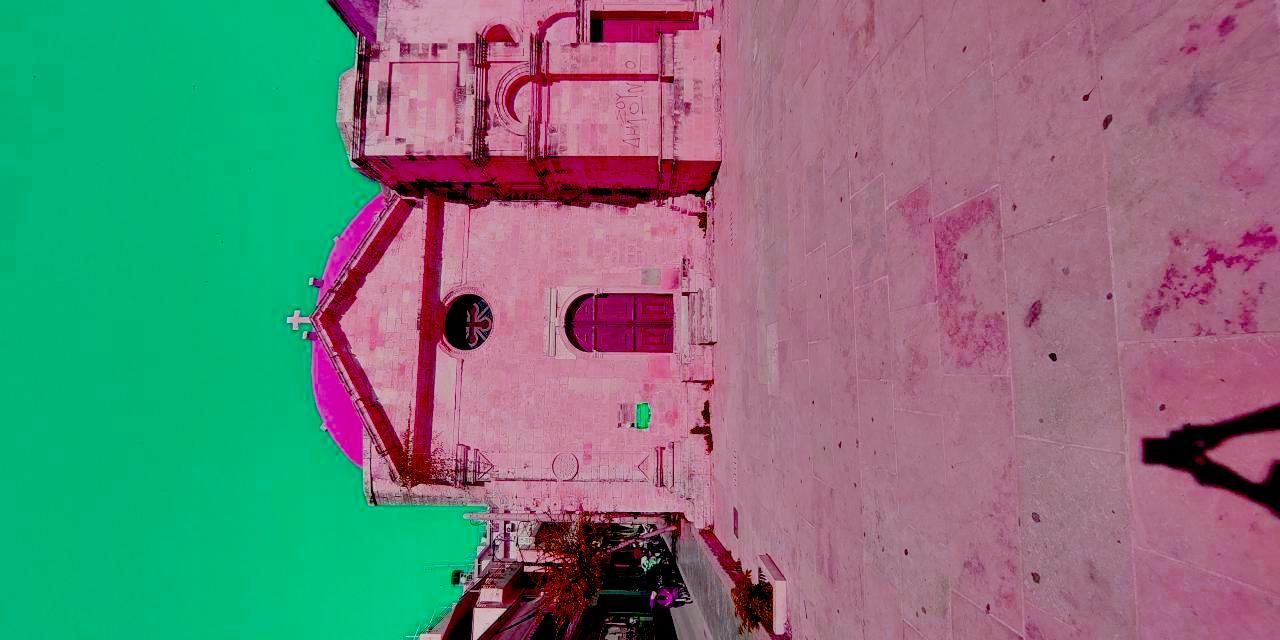Agia Aikaterini: (277, 178, 733, 511)
